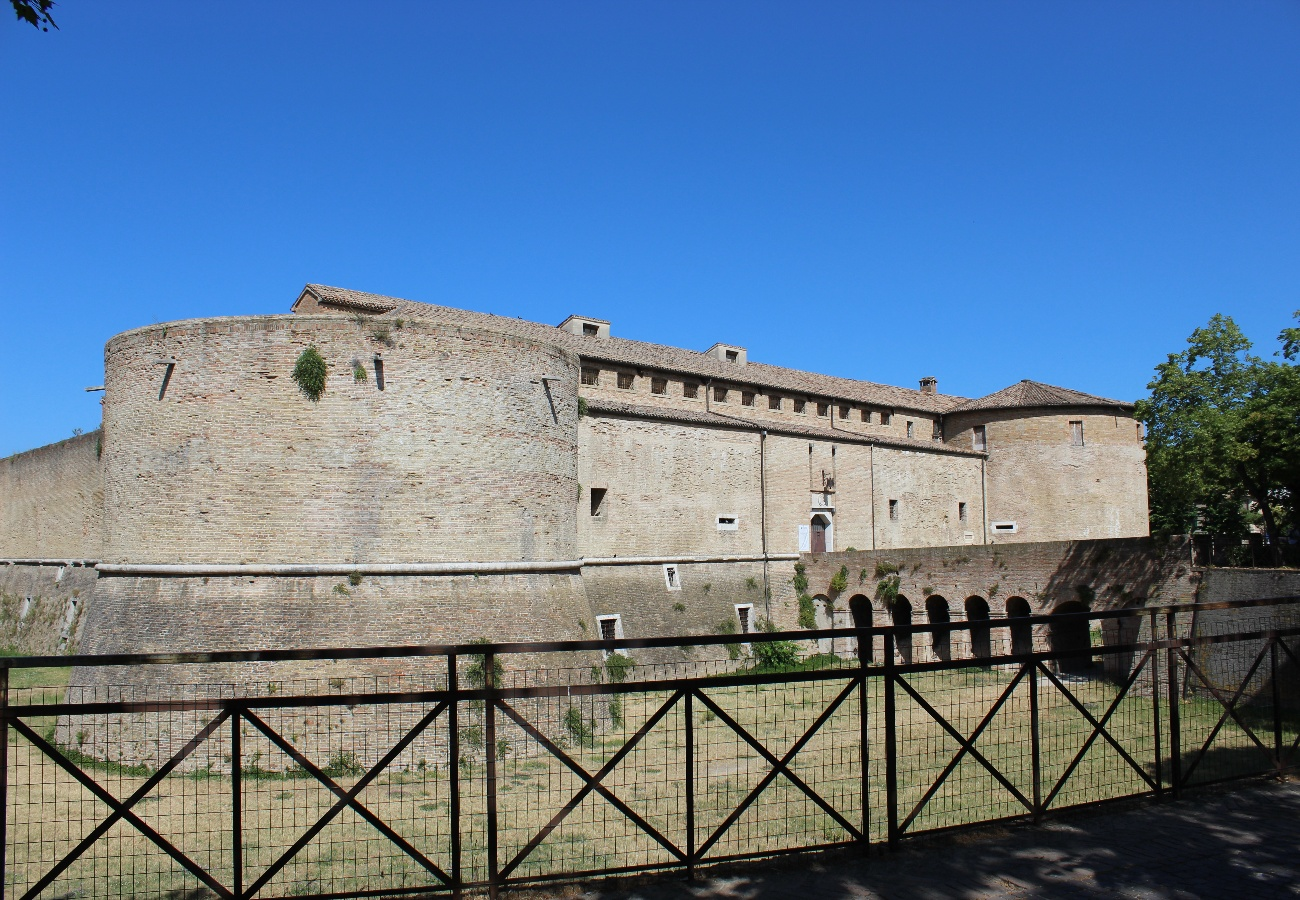Rocca Costanza: (87, 289, 1155, 765)
